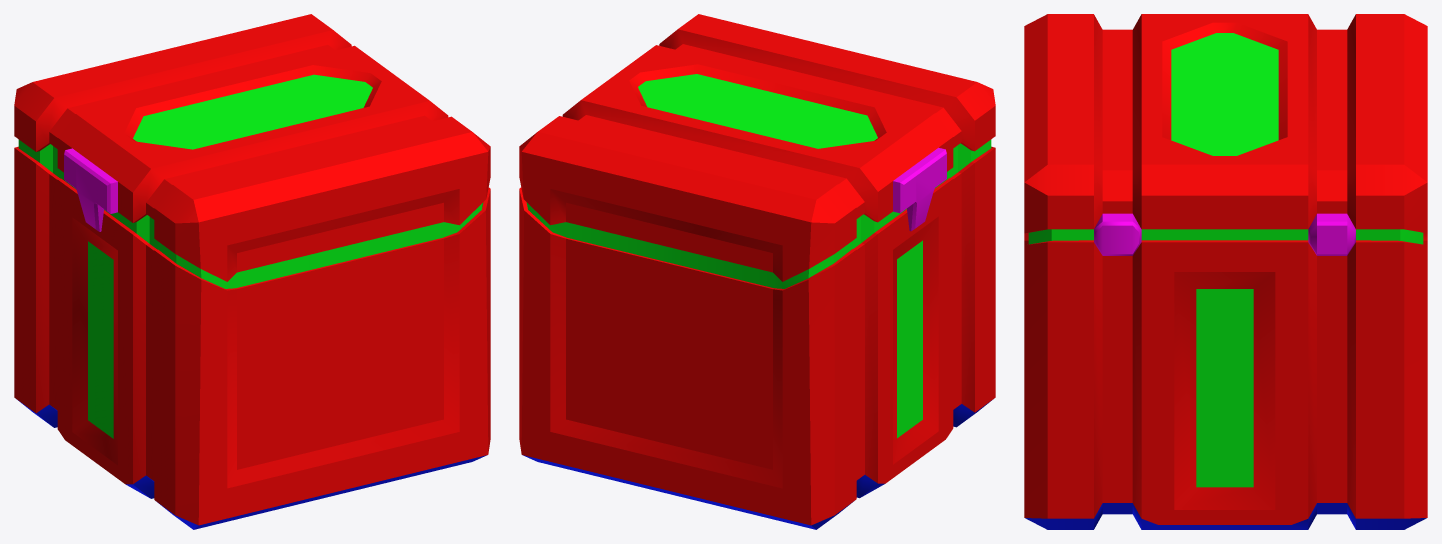
The picture shows the model from 3 angles, left to right: view 1: azimuth 30°, elevation 25°; view 2: azimuth 150°, elevation 25°; view 3: azimuth 270°, elevation 25°; orthographic projection. The views are drawn at different scales.
Visible parts, largest first — view 1: Box004; view 2: Box004; view 3: Box004.
Boxes of the visible parts, <box> form: Box004: <box>14,14,490,529</box>; Box004: <box>519,14,995,529</box>; Box004: <box>1024,14,1427,529</box>.
Bounding box in the file's own units: 83.96 × 79.57 × 79.57.
